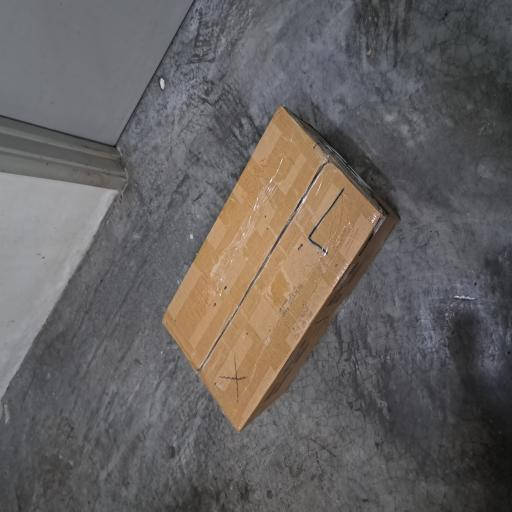cardboard: (60, 213, 304, 512)
